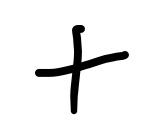plus: (36, 25, 129, 114)
